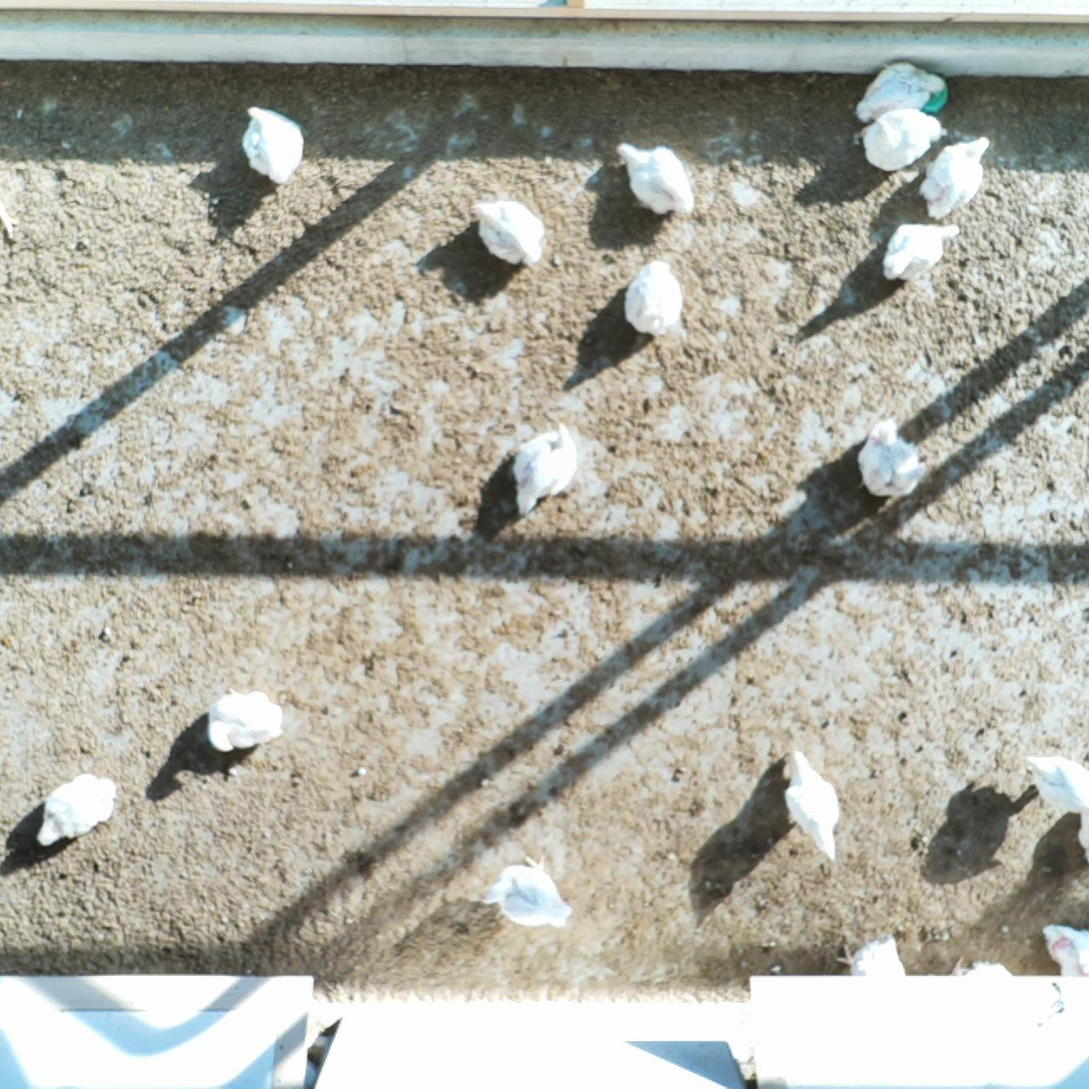chicken: (478, 854, 573, 928), (782, 750, 839, 864), (35, 772, 119, 846), (615, 140, 695, 217), (919, 137, 992, 221), (855, 59, 949, 121), (860, 107, 943, 174), (858, 416, 923, 500), (242, 105, 307, 184), (474, 198, 547, 268), (208, 687, 284, 753), (623, 259, 683, 337), (880, 222, 959, 281), (1023, 753, 1089, 815), (837, 935, 911, 976), (1042, 920, 1089, 978), (943, 957, 1019, 978)
